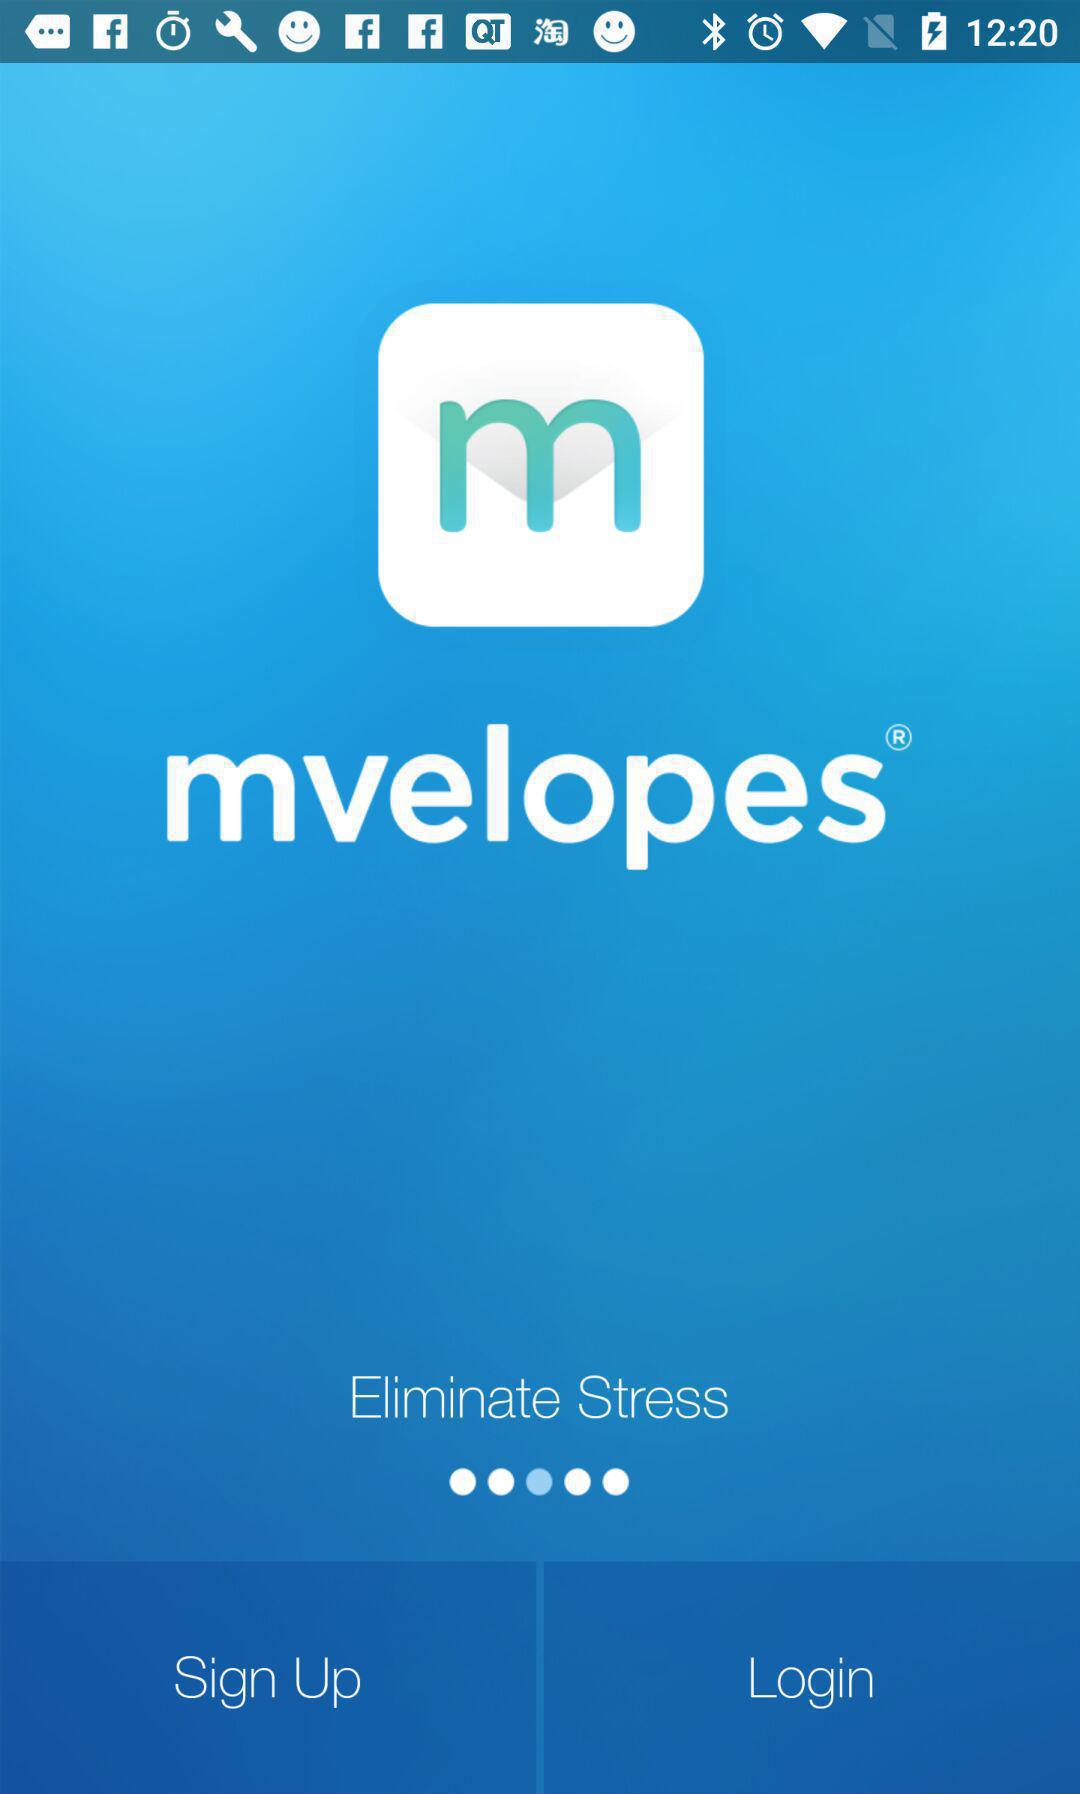Image: (378, 302, 706, 630)
PageIndicator: (448, 1466, 632, 1498)
Text: (167, 721, 913, 871), (351, 1375, 729, 1421)
TextButton: (544, 1561, 1080, 1794), (1, 1562, 536, 1794)
UpperTaskBar: (1, 1, 1080, 64)
